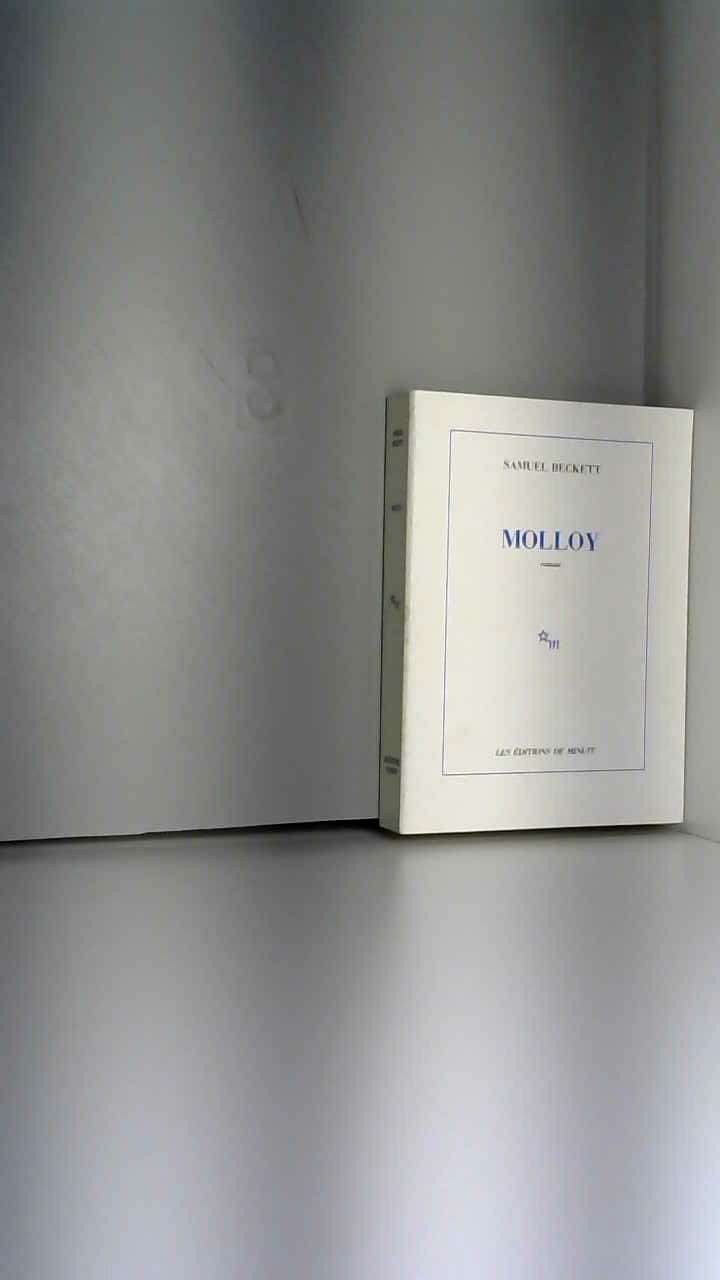book: (380, 360, 720, 865)
